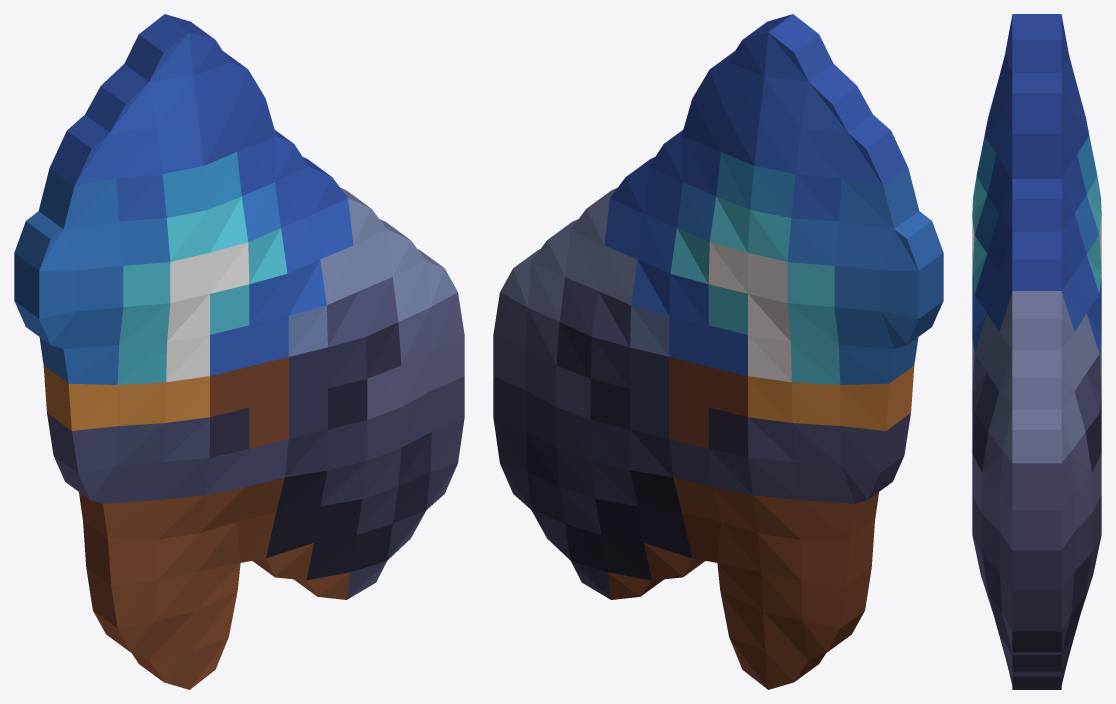
The model's file is wall_sconce_torch.glb.
3 views of the same model, side by side, from view 1: azimuth 30°, elevation 25°; view 2: azimuth 150°, elevation 25°; view 3: azimuth 270°, elevation 25° (orthographic).
Visible parts, largest first — view 1: wall_sconce_torch; view 2: wall_sconce_torch; view 3: wall_sconce_torch.
Part boxes in pixels (x1,y1,x2,y2): wall_sconce_torch: (14, 14, 464, 689); wall_sconce_torch: (493, 14, 943, 689); wall_sconce_torch: (972, 14, 1101, 689).
Size of the model in its own units: 0.6768 by 1 by 0.1813.
Materials: 1 (1 with a texture image).
